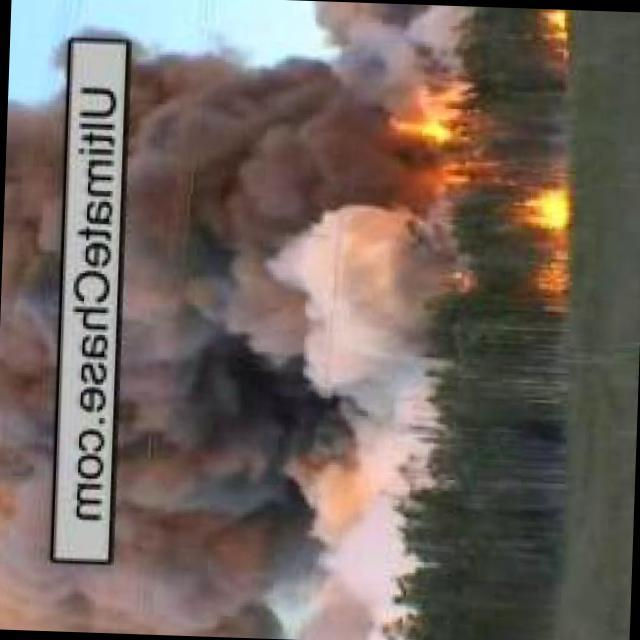Fire: (371, 90, 453, 144), (517, 186, 573, 236), (532, 8, 563, 43)
